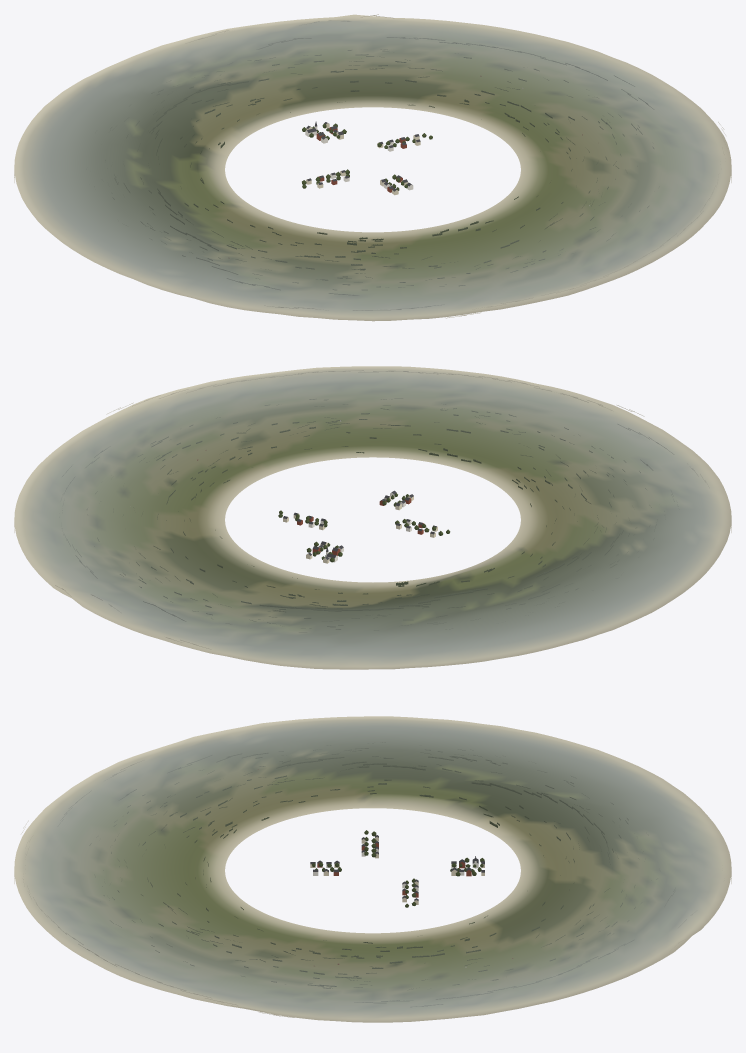
The model's file is landscape.glb.
3 views of the same model, one above another, from view 1: azimuth 30°, elevation 25°; view 2: azimuth 150°, elevation 25°; view 3: azimuth 270°, elevation 25° (orthographic).
Visible parts, largest first — view 1: landscape_far_terrain, landscape_far_trees, landscape_town; view 2: landscape_far_terrain, landscape_far_trees, landscape_town; view 3: landscape_far_terrain, landscape_far_trees, landscape_town.
Part boxes in pixels (x1,y1,x2,y2): landscape_far_terrain: [14, 14, 731, 321]; landscape_far_trees: [86, 14, 727, 318]; landscape_town: [302, 121, 432, 195]; landscape_far_terrain: [14, 366, 731, 669]; landscape_far_trees: [55, 370, 709, 649]; landscape_town: [278, 490, 450, 563]; landscape_far_terrain: [14, 716, 731, 1022]; landscape_far_trees: [21, 742, 724, 1017]; landscape_town: [310, 830, 484, 907].
Size of the model in its own units: 1602 by 71 by 1602.
Materials: 3 (1 with a texture image).
